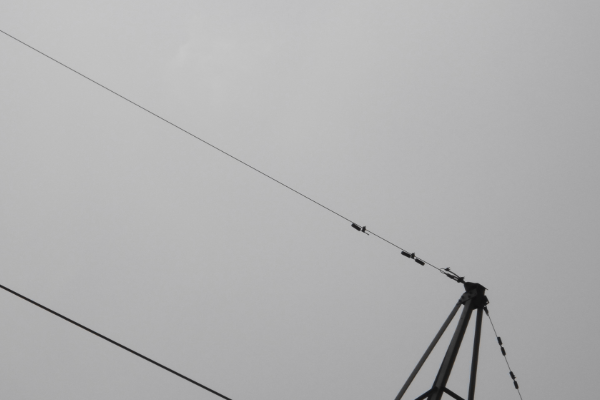damper: (399, 248, 426, 266), (495, 334, 507, 358), (508, 368, 520, 391)
damper_defect: (349, 221, 372, 236)
